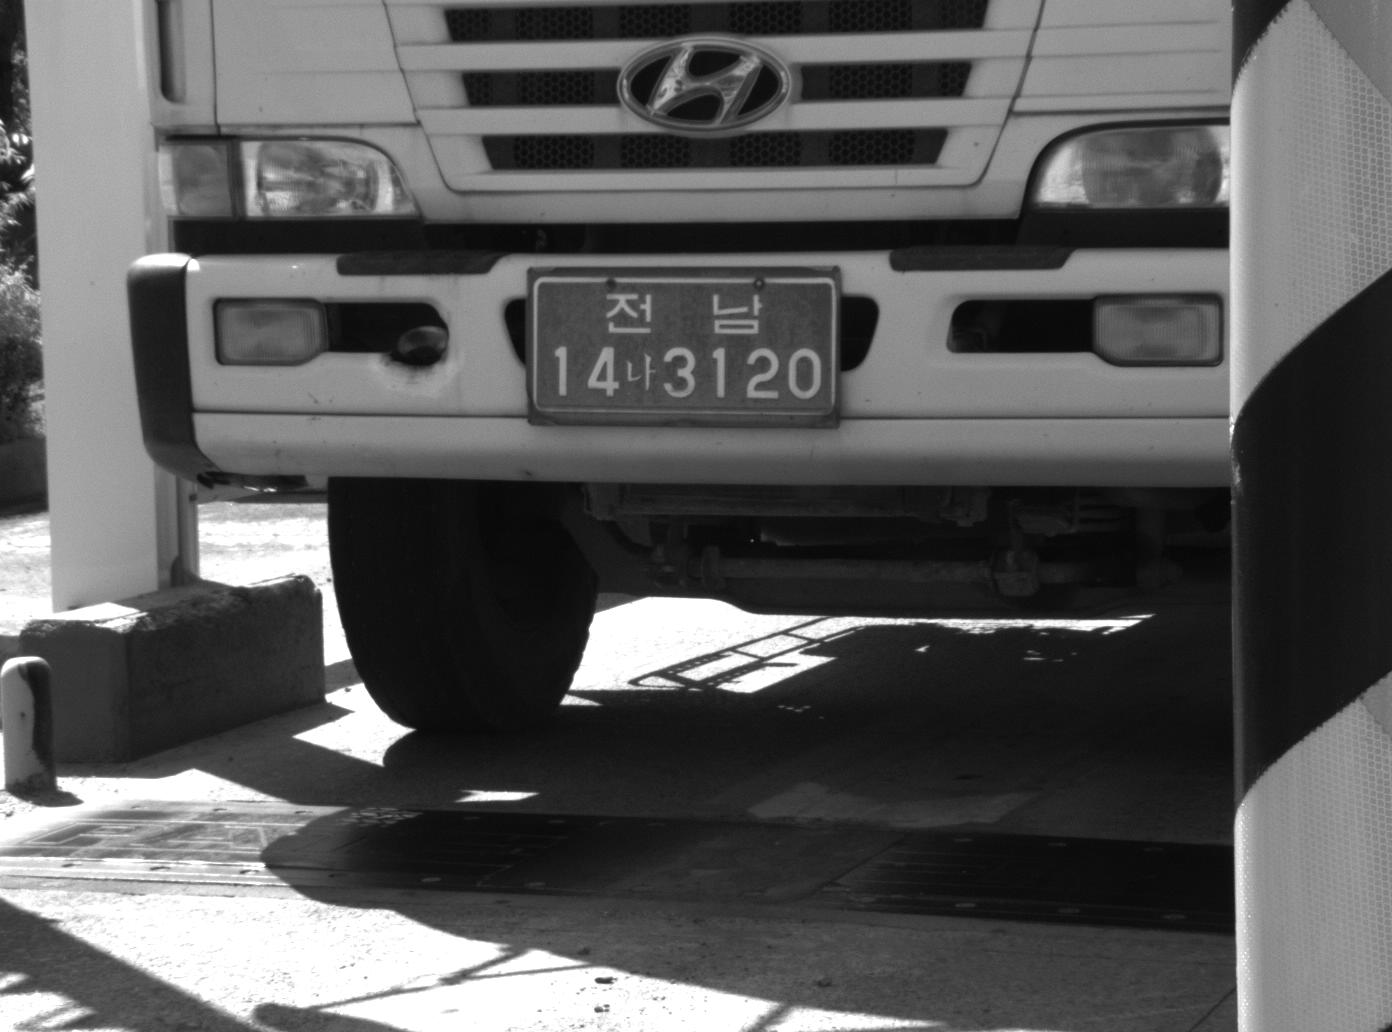car: (118, 1, 1228, 726)
plate: (525, 269, 839, 419)
